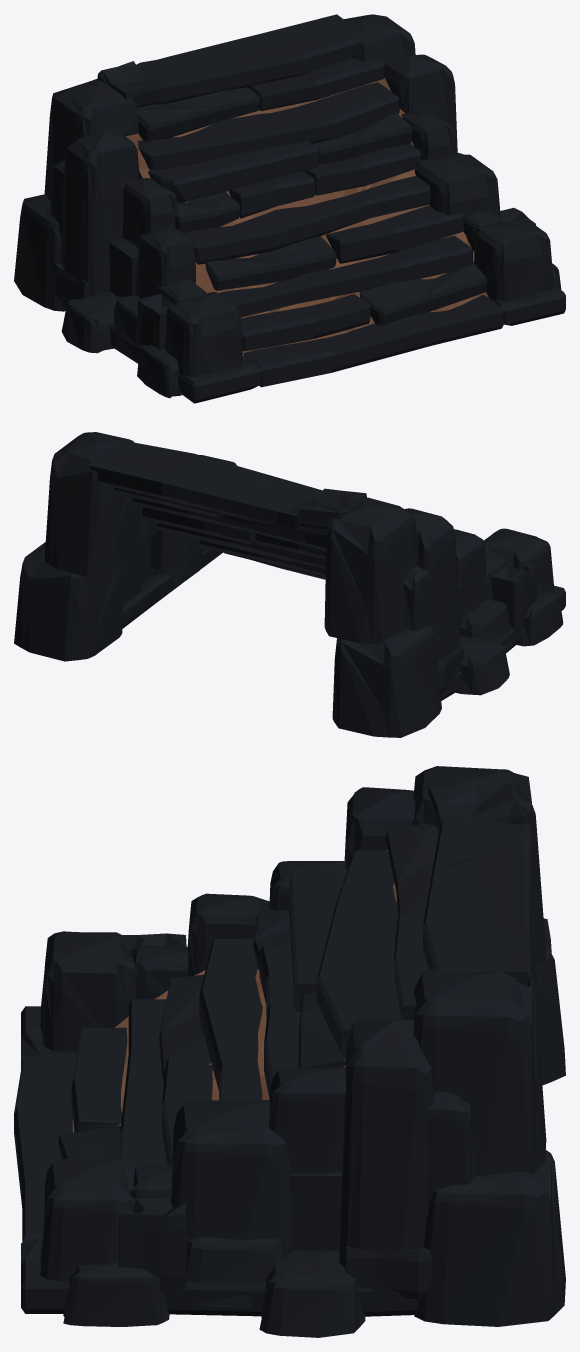
File: stairs_sand.FBX
3 renders of one model, top to bottom at view 1: azimuth 30°, elevation 25°; view 2: azimuth 150°, elevation 25°; view 3: azimuth 270°, elevation 25°, orthographic. The views are drawn at different scales.
Visible parts, largest first — view 1: stairs_sand; view 2: stairs_sand; view 3: stairs_sand.
Boxes of the visible parts, bbox=[...] form: stairs_sand: bbox=[14, 14, 565, 403]; stairs_sand: bbox=[14, 432, 565, 737]; stairs_sand: bbox=[14, 766, 565, 1337].
Size of the model in its own units: 159 by 70.88 by 115.
